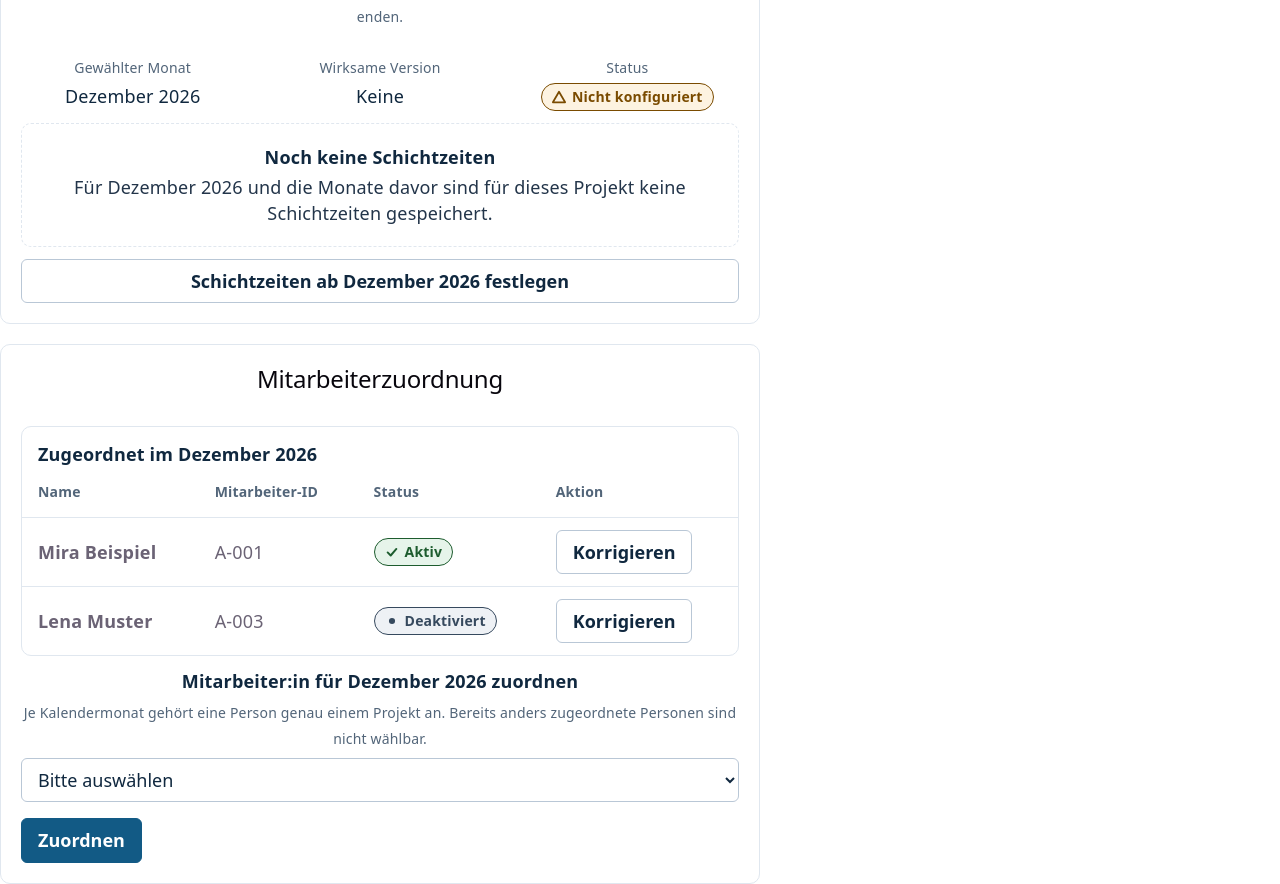
Test case: SP-09 correction — opening the form › each existing row offers an accessible edit action; the form starts from the persisted values
(page scrolled)
Click the button with aria-label "Zuordnung von Mira Beispiel korrigieren".
click(624, 552)  # box [556,530,692,574]
(page scrolled)
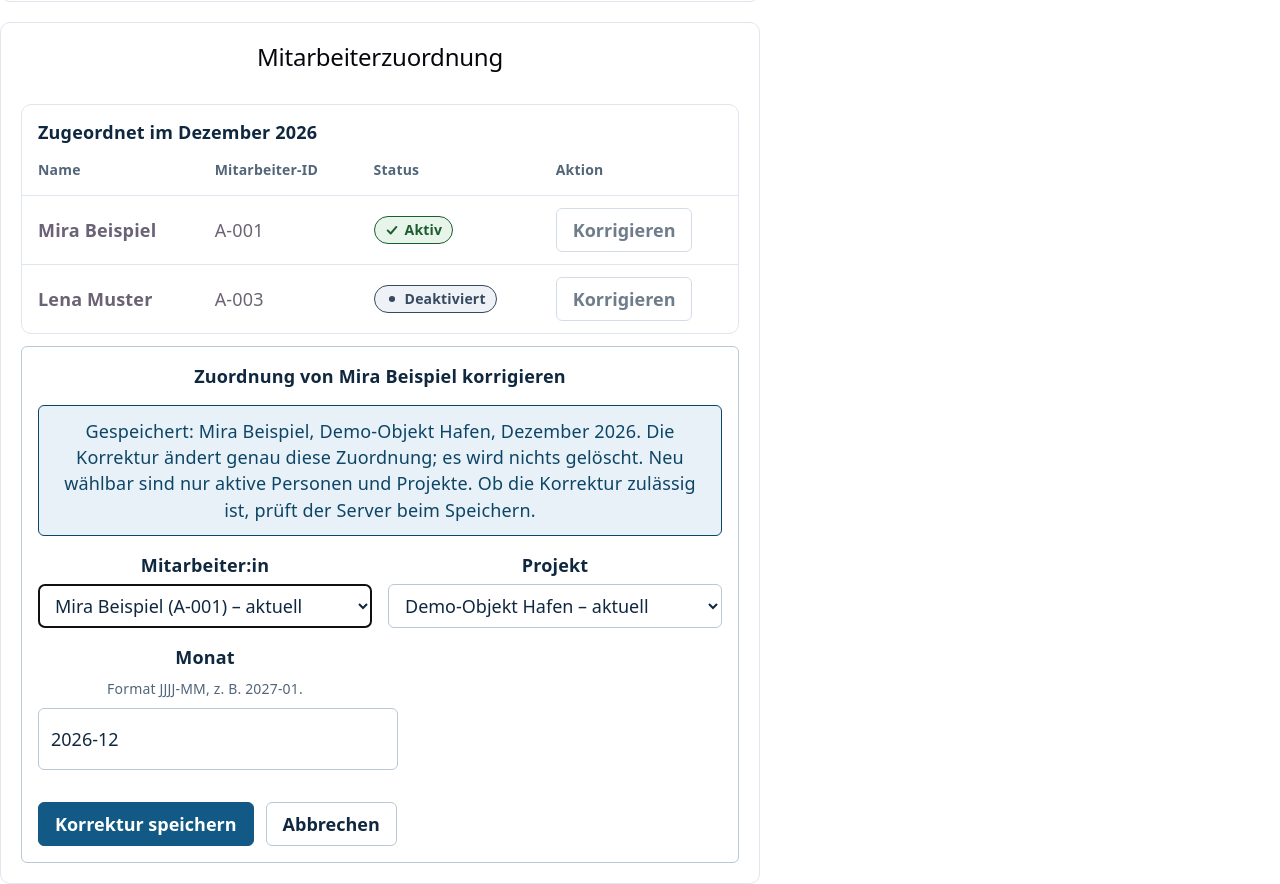
Check: the heading "Zuordnung von Mira Beispiel korrigieren" is shown, box [194,364,566,388]
Check: the form "korrigieren" shows "Gespeichert: Mira Beispiel, Demo-Objekt Hafen, Dezember 2026.", box [21,346,739,863]
Check: the dropdown labelled "Mitarbeiter:in" shows "Mira Beispiel (A-001) – aktuell", box [38,584,372,628]
